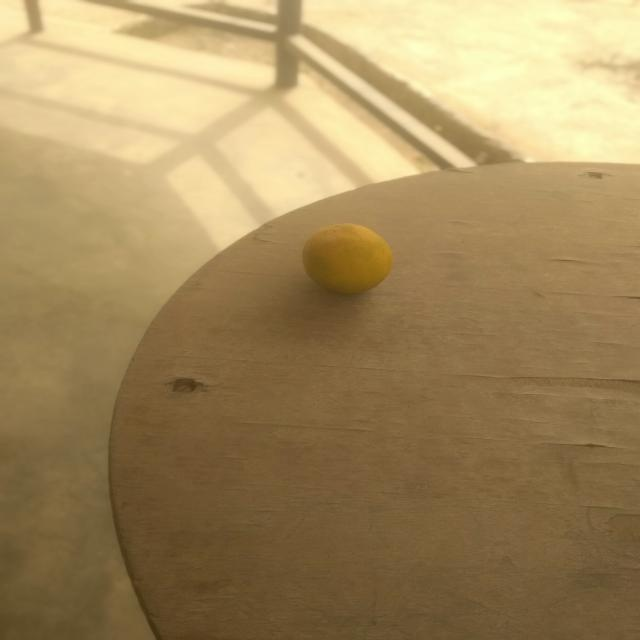agrume: (272, 198, 431, 306)
